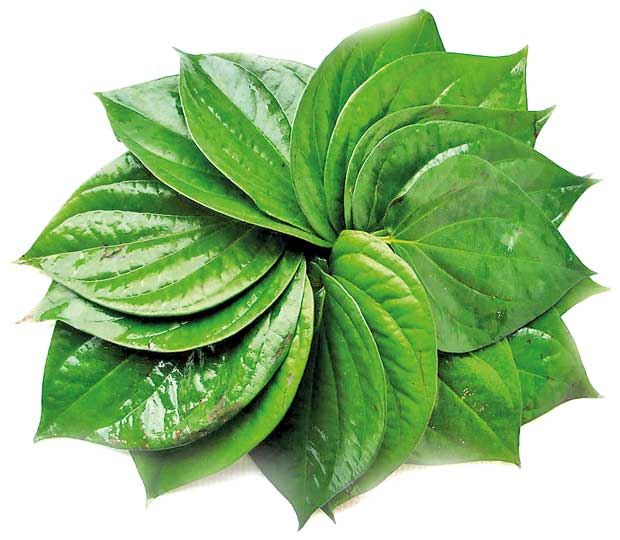bulathwita: (37, 10, 610, 528)
